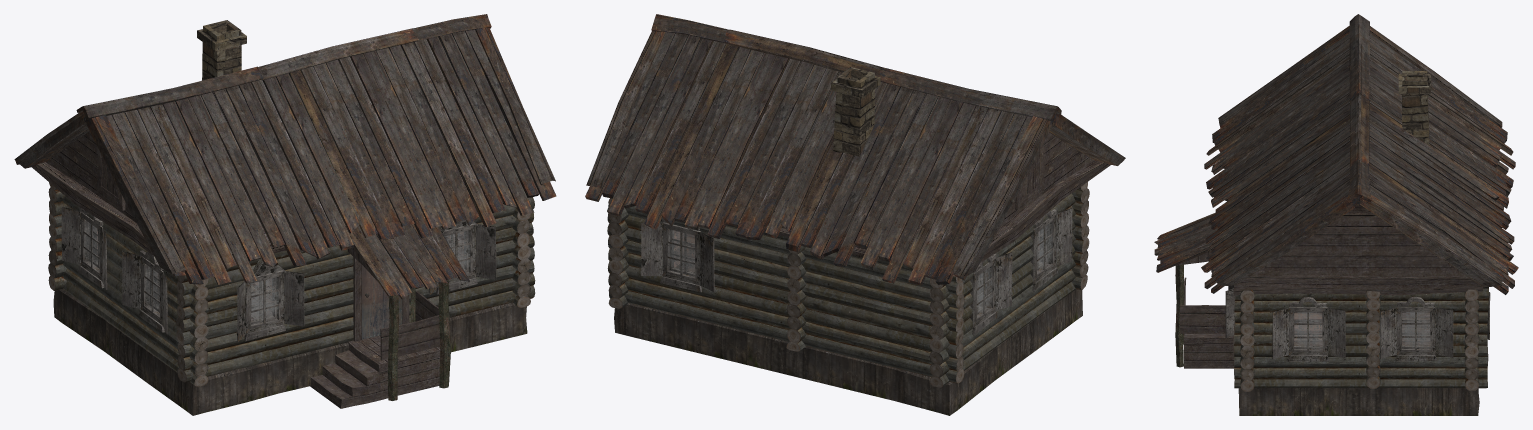
Rendered from old_house.glb.
3 renders of one model, left to right at view 1: azimuth 30°, elevation 25°; view 2: azimuth 150°, elevation 25°; view 3: azimuth 270°, elevation 25°, orthographic. The views are drawn at different scales.
Parts seen in each view (by area): view 1: geom_old_house_2, geom_window_oh_1.004, geom_window_oh_1.008, geom_window_oh_1.001, geom_window_oh_1.000, door; view 2: geom_old_house_2, geom_window_oh_1.005, geom_window_oh_1.008, geom_window_oh_1.001; view 3: geom_old_house_2, geom_window_oh_1.009, geom_window_oh_1.007, geom_window_oh_1.000.
Boxes of the visible parts, bbox=[...] form: geom_old_house_2: bbox=[14, 14, 556, 415]; geom_window_oh_1.004: bbox=[237, 258, 304, 342]; geom_window_oh_1.008: bbox=[122, 250, 167, 334]; geom_window_oh_1.001: bbox=[61, 207, 107, 289]; geom_window_oh_1.000: bbox=[428, 220, 496, 295]; door: bbox=[353, 257, 409, 341]; geom_old_house_2: bbox=[585, 14, 1125, 415]; geom_window_oh_1.005: bbox=[641, 218, 714, 292]; geom_window_oh_1.008: bbox=[1030, 208, 1072, 291]; geom_window_oh_1.001: bbox=[970, 252, 1012, 335]; geom_old_house_2: bbox=[1154, 14, 1518, 415]; geom_window_oh_1.009: bbox=[1380, 297, 1453, 361]; geom_window_oh_1.007: bbox=[1272, 297, 1345, 361]; geom_window_oh_1.000: bbox=[1225, 285, 1234, 338].
Size of the model in its own units: 8.58 by 5.77 by 7.59.
Materials: 15 (15 with a texture image).
